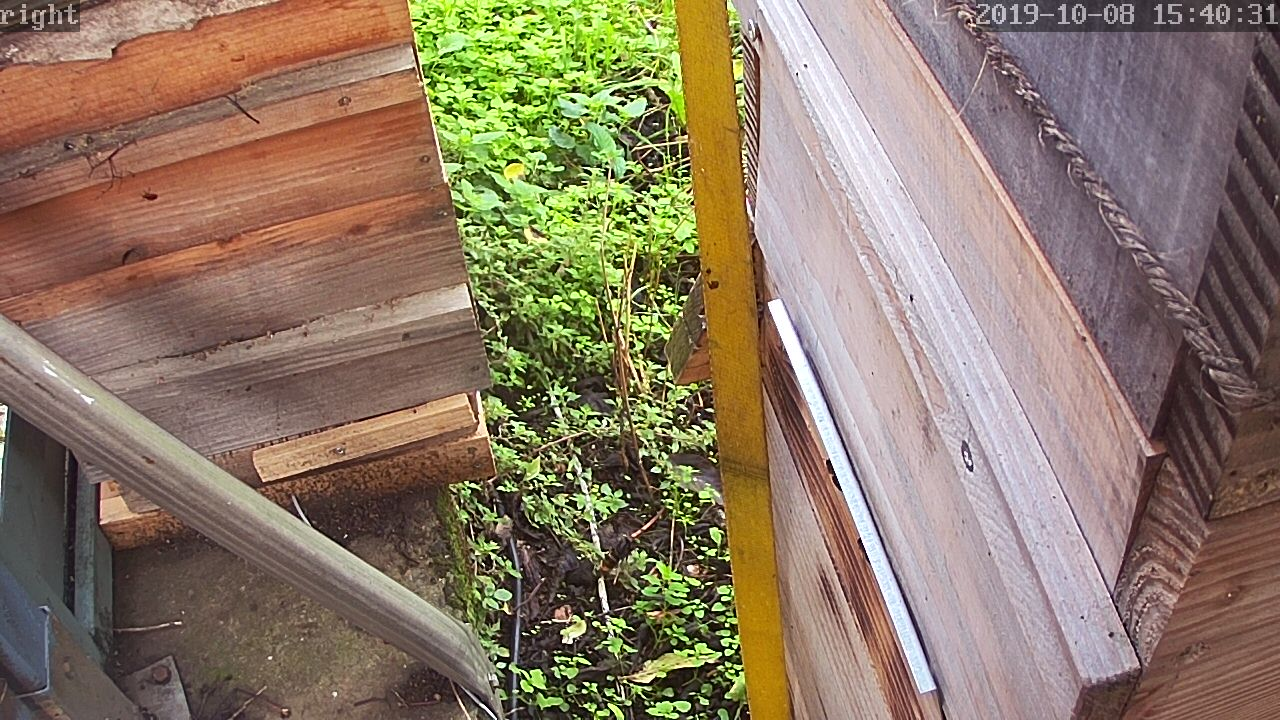hornet: (711, 545, 742, 604)
